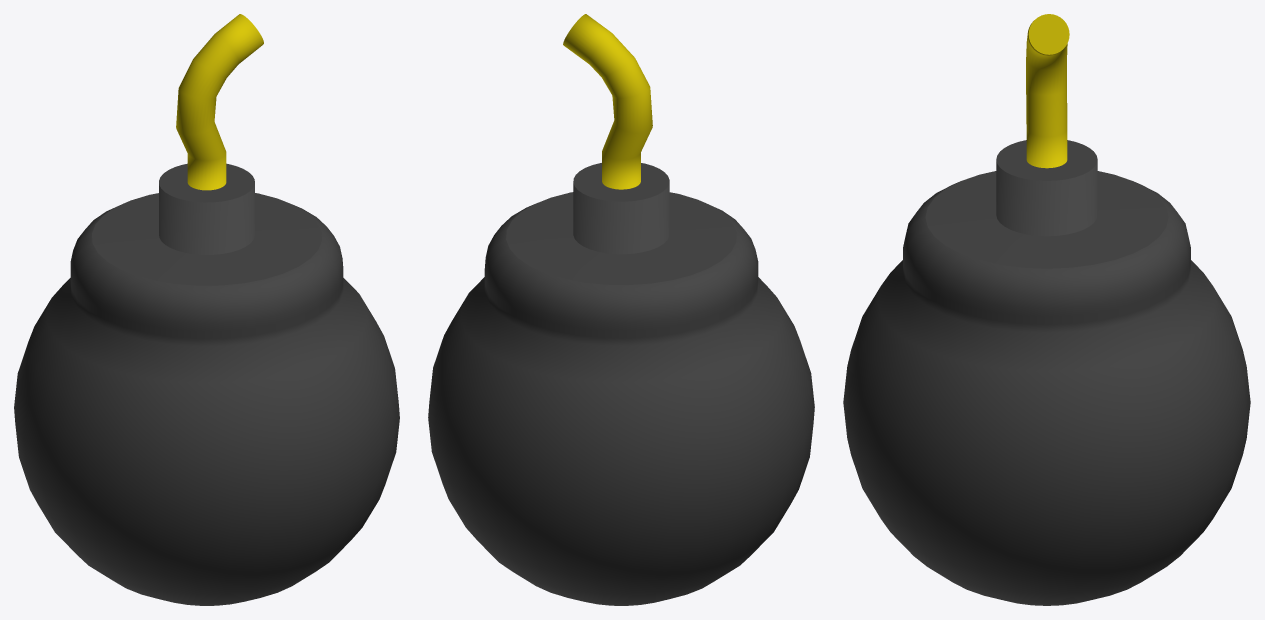
Rendered from ExplodudeBomb.fbx.
The picture shows the model from 3 angles, left to right: view 1: azimuth 30°, elevation 25°; view 2: azimuth 150°, elevation 25°; view 3: azimuth 270°, elevation 25°; orthographic projection. The views are drawn at different scales.
Parts seen in each view (by area): view 1: BombBody, BombFuse; view 2: BombBody, BombFuse; view 3: BombBody, BombFuse.
Boxes of the visible parts, x1,y1,x2,y2 form: BombBody: (14,163,399,605); BombFuse: (176,14,263,190); BombBody: (428,163,814,605); BombFuse: (563,14,652,189); BombBody: (843,140,1250,605); BombFuse: (1026,14,1069,168).
Size of the model in its own units: 100 by 161 by 100.
